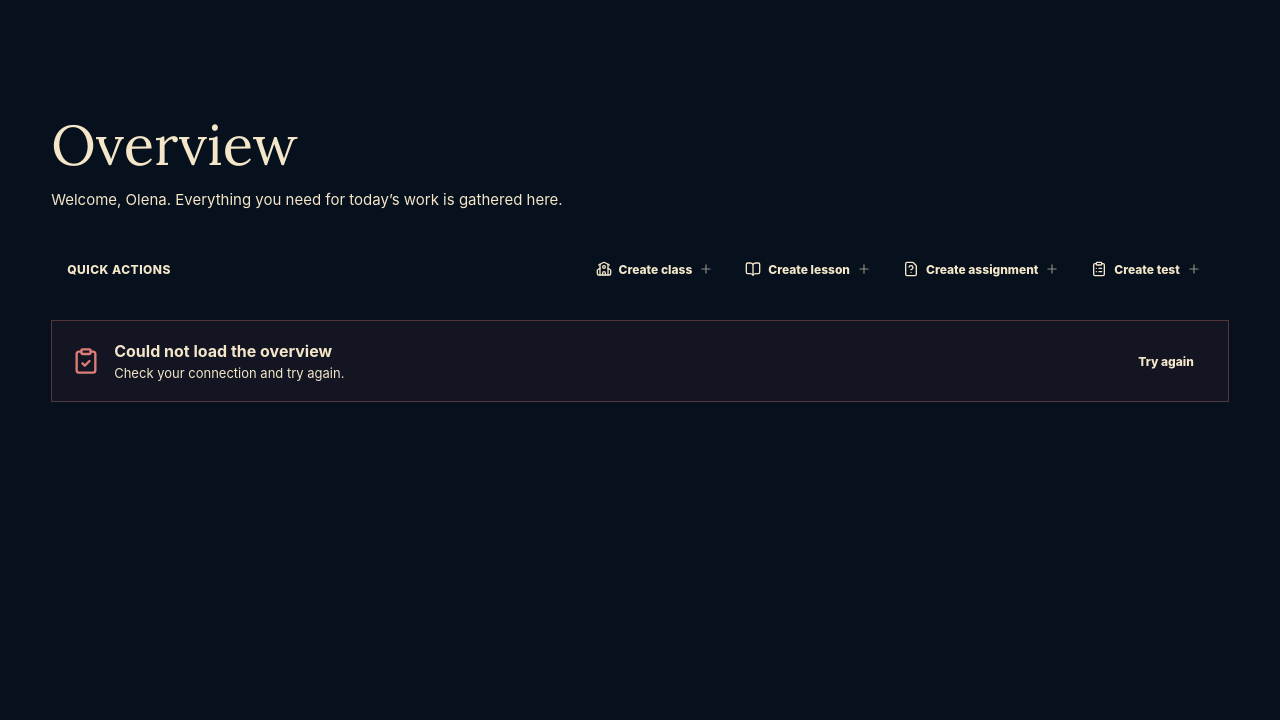
it: TeacherOverviewPage › retries after a loading error
Click the button "Try again": (1166, 361) [1124,342,1208,380]
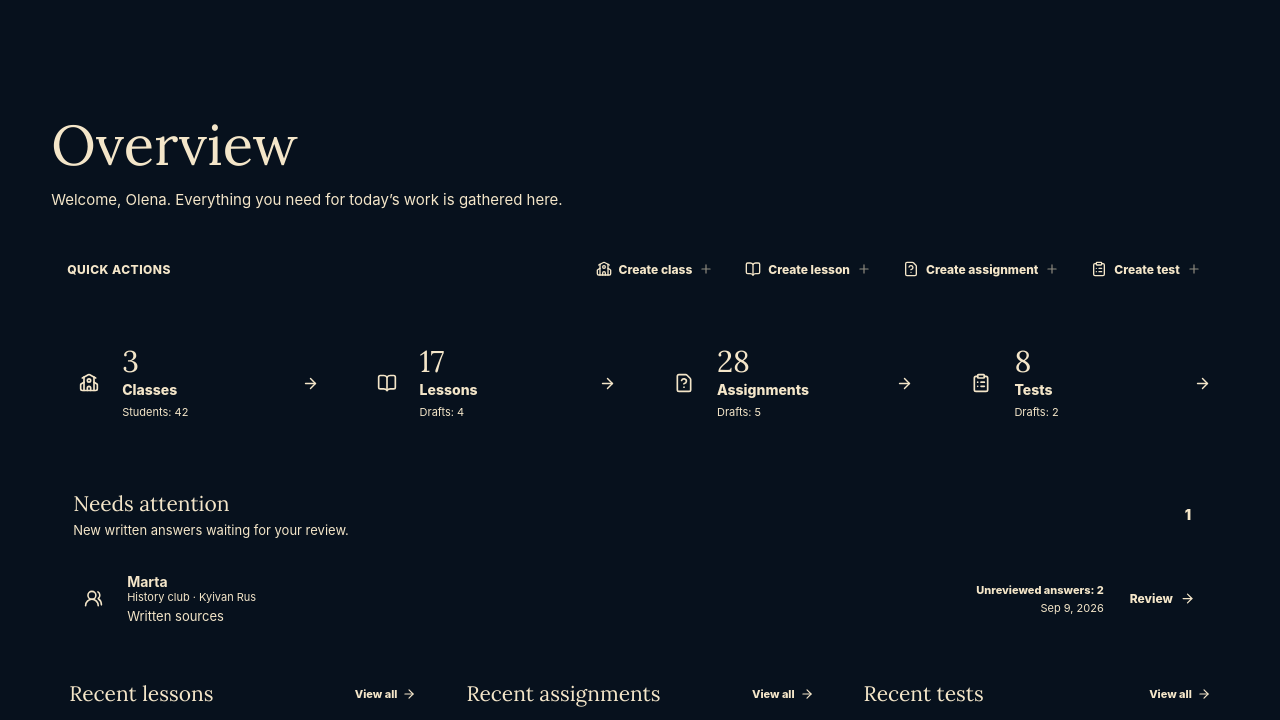
Check: the text "Students: 42" is shown, box [122,405,188,419]
